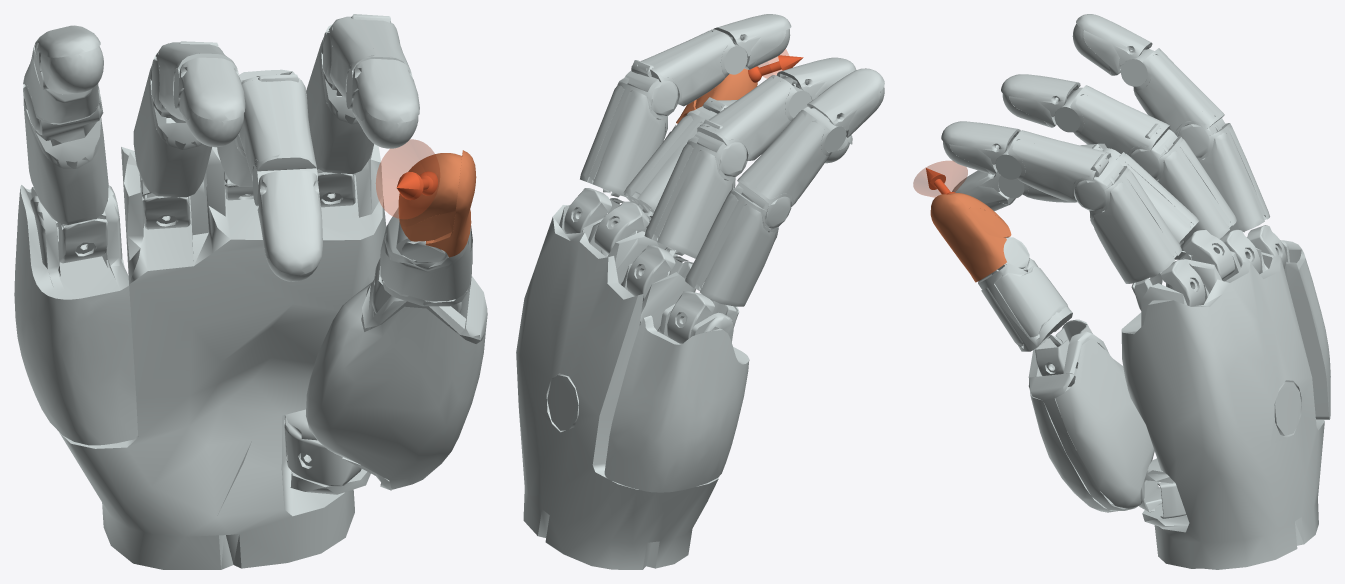
The model's file is notation_final.glb.
The picture shows the model from 3 angles, left to right: view 1: azimuth 30°, elevation 25°; view 2: azimuth 150°, elevation 25°; view 3: azimuth 270°, elevation 25°; orthographic projection. The views are drawn at different scales.
Parts seen in each view (by area): view 1: mesh0; view 2: mesh0; view 3: mesh0.
Boxes of the visible parts, x1,y1,x2,y2 form: mesh0: (14,14,487,569); mesh0: (516,14,884,569); mesh0: (913,14,1330,569).
Bounding box in the file's own units: 0.1184 × 0.1708 × 0.1449.
